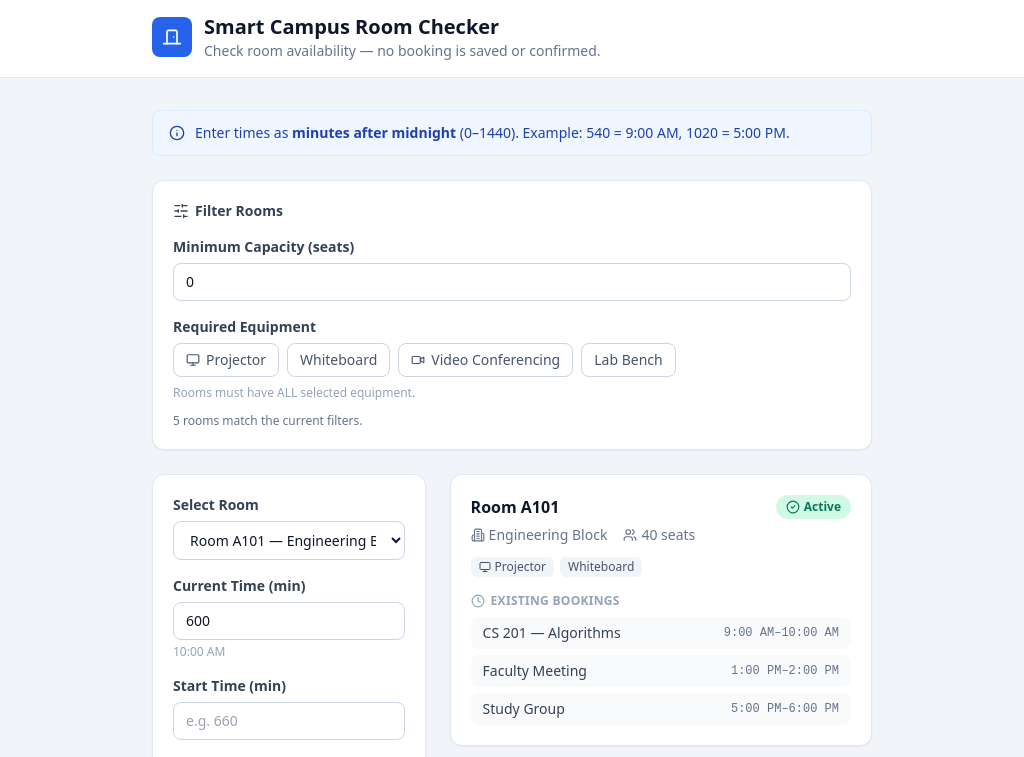
Test case: App — Integration / UI behavior tests (F4, F5) › F4-CHECK-DISABLED: Check button is disabled when no rooms match
Replace the text in the number field labelled "Minimum Capacity (seats)" with "999". click: (512, 282)
box: [173,263,851,301]
(page scrolled)
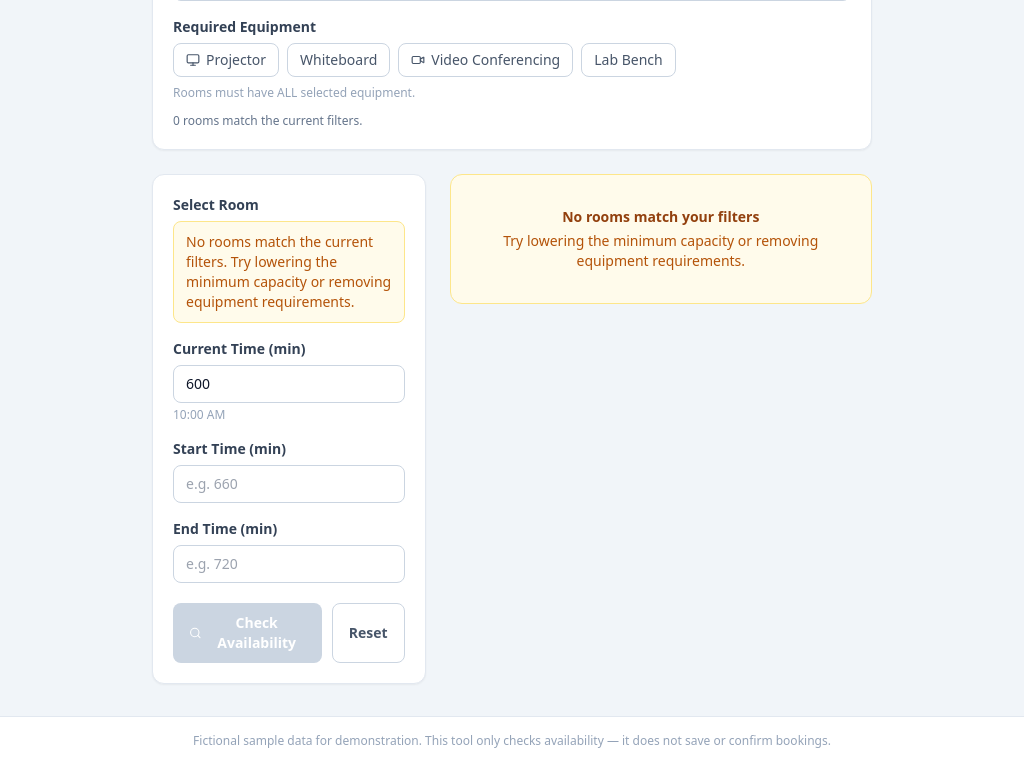
Expected: the button "Check Availability" is disabled, [173,603,322,663]
